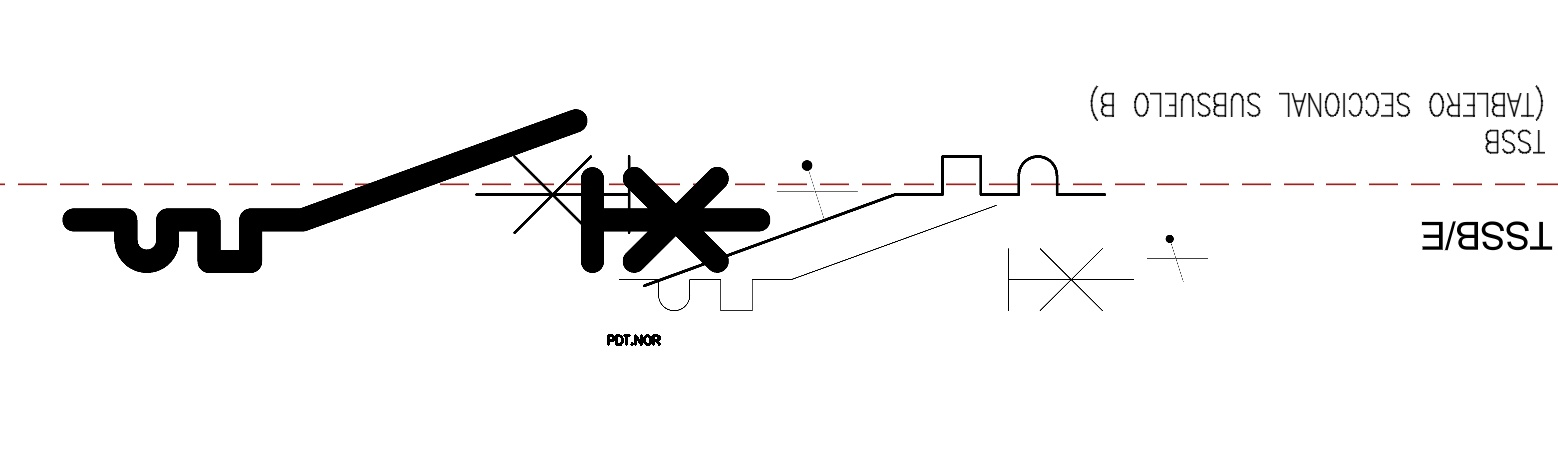interruptor_termomagnetico: (56, 103, 777, 279), (460, 140, 1121, 301), (606, 192, 1147, 324)
